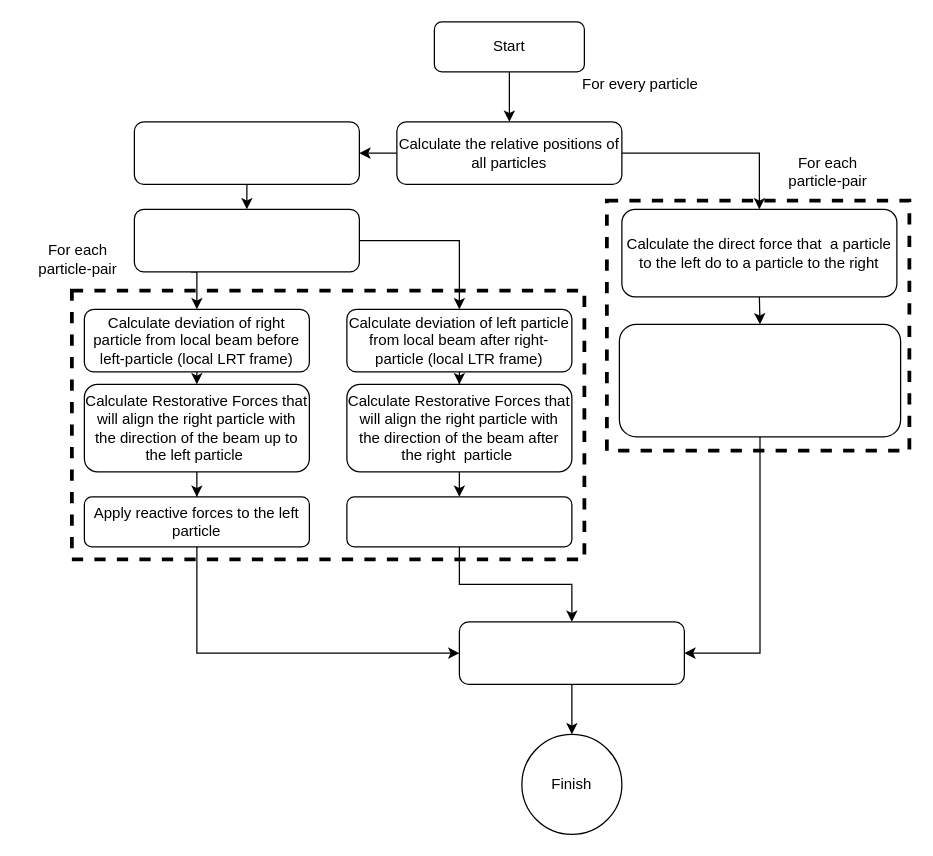
Some shapes in this 933 by 856 pixel diagram are drawn without their labels. Here are the shapes that lost their labels. From the top down, the centre of each, then its label:
At point (246, 152): "Calculate Shear elastic coefficient.".
At point (246, 240): "Calculate the local frames of references (LTR & RTL)".
At point (759, 380): "Assign equal and opposite reactive force to left particle".
At point (459, 521): "Apply reactive forces to the right particle".
At point (571, 652): "Add all forces together".
